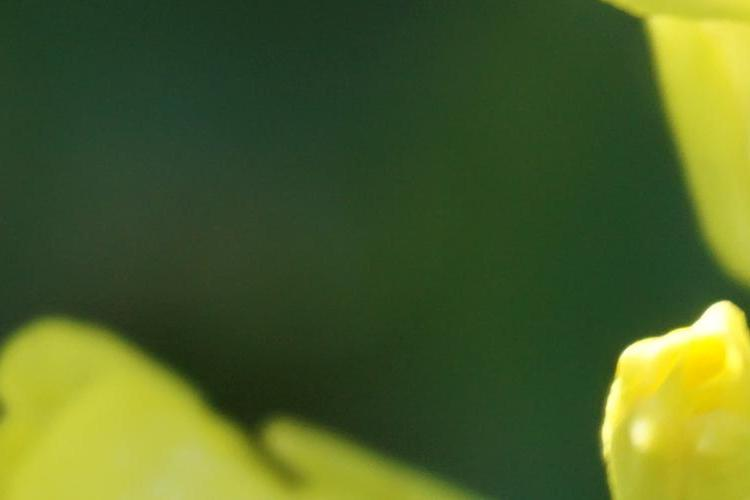yellow: (582, 298, 745, 500)
